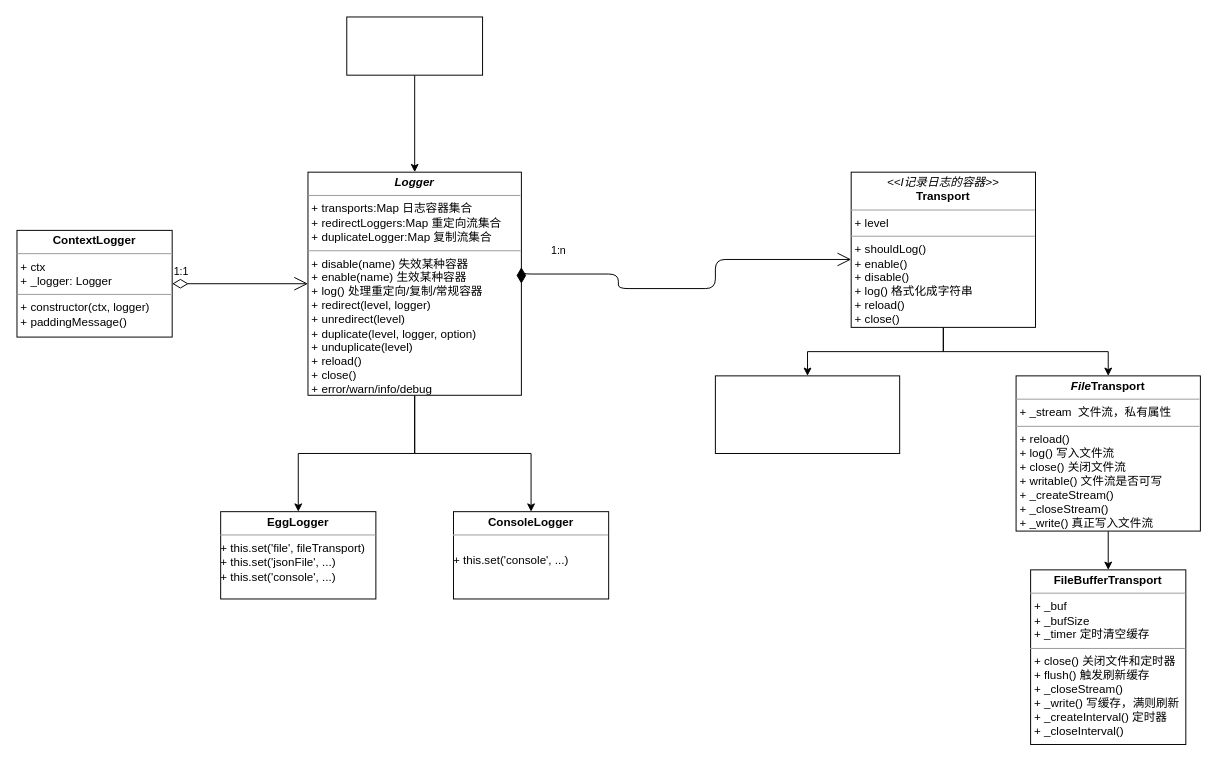
The diagram is 1217 pixels wide and 761 high, and some of its shapes have lost their labels. The shapes that lost their labels are listed below. From the top down, each one's centre as x and y in pixels, then its label:
At point 414,45: "Map + set()".
At point 807,414: "Console Transport + stderrLevel + log() 写到控制台".
